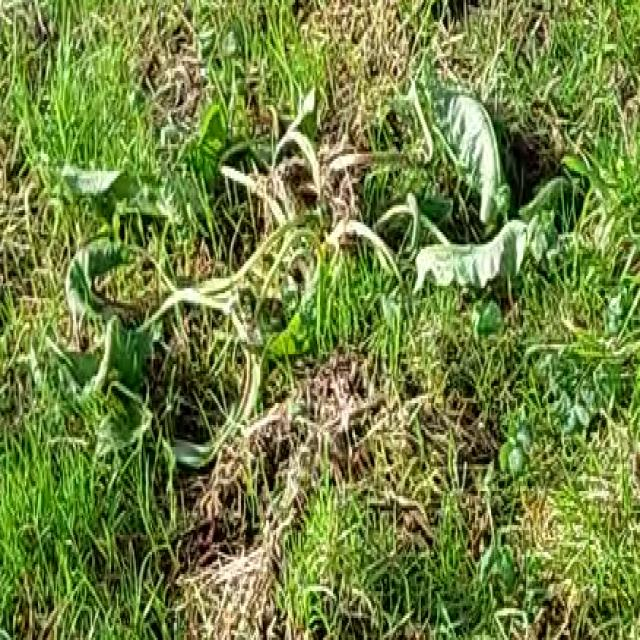organic waste: (51, 74, 569, 498)
